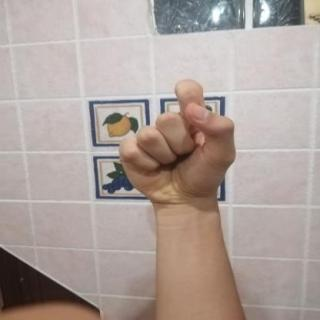FAA: (104, 71, 248, 214)
